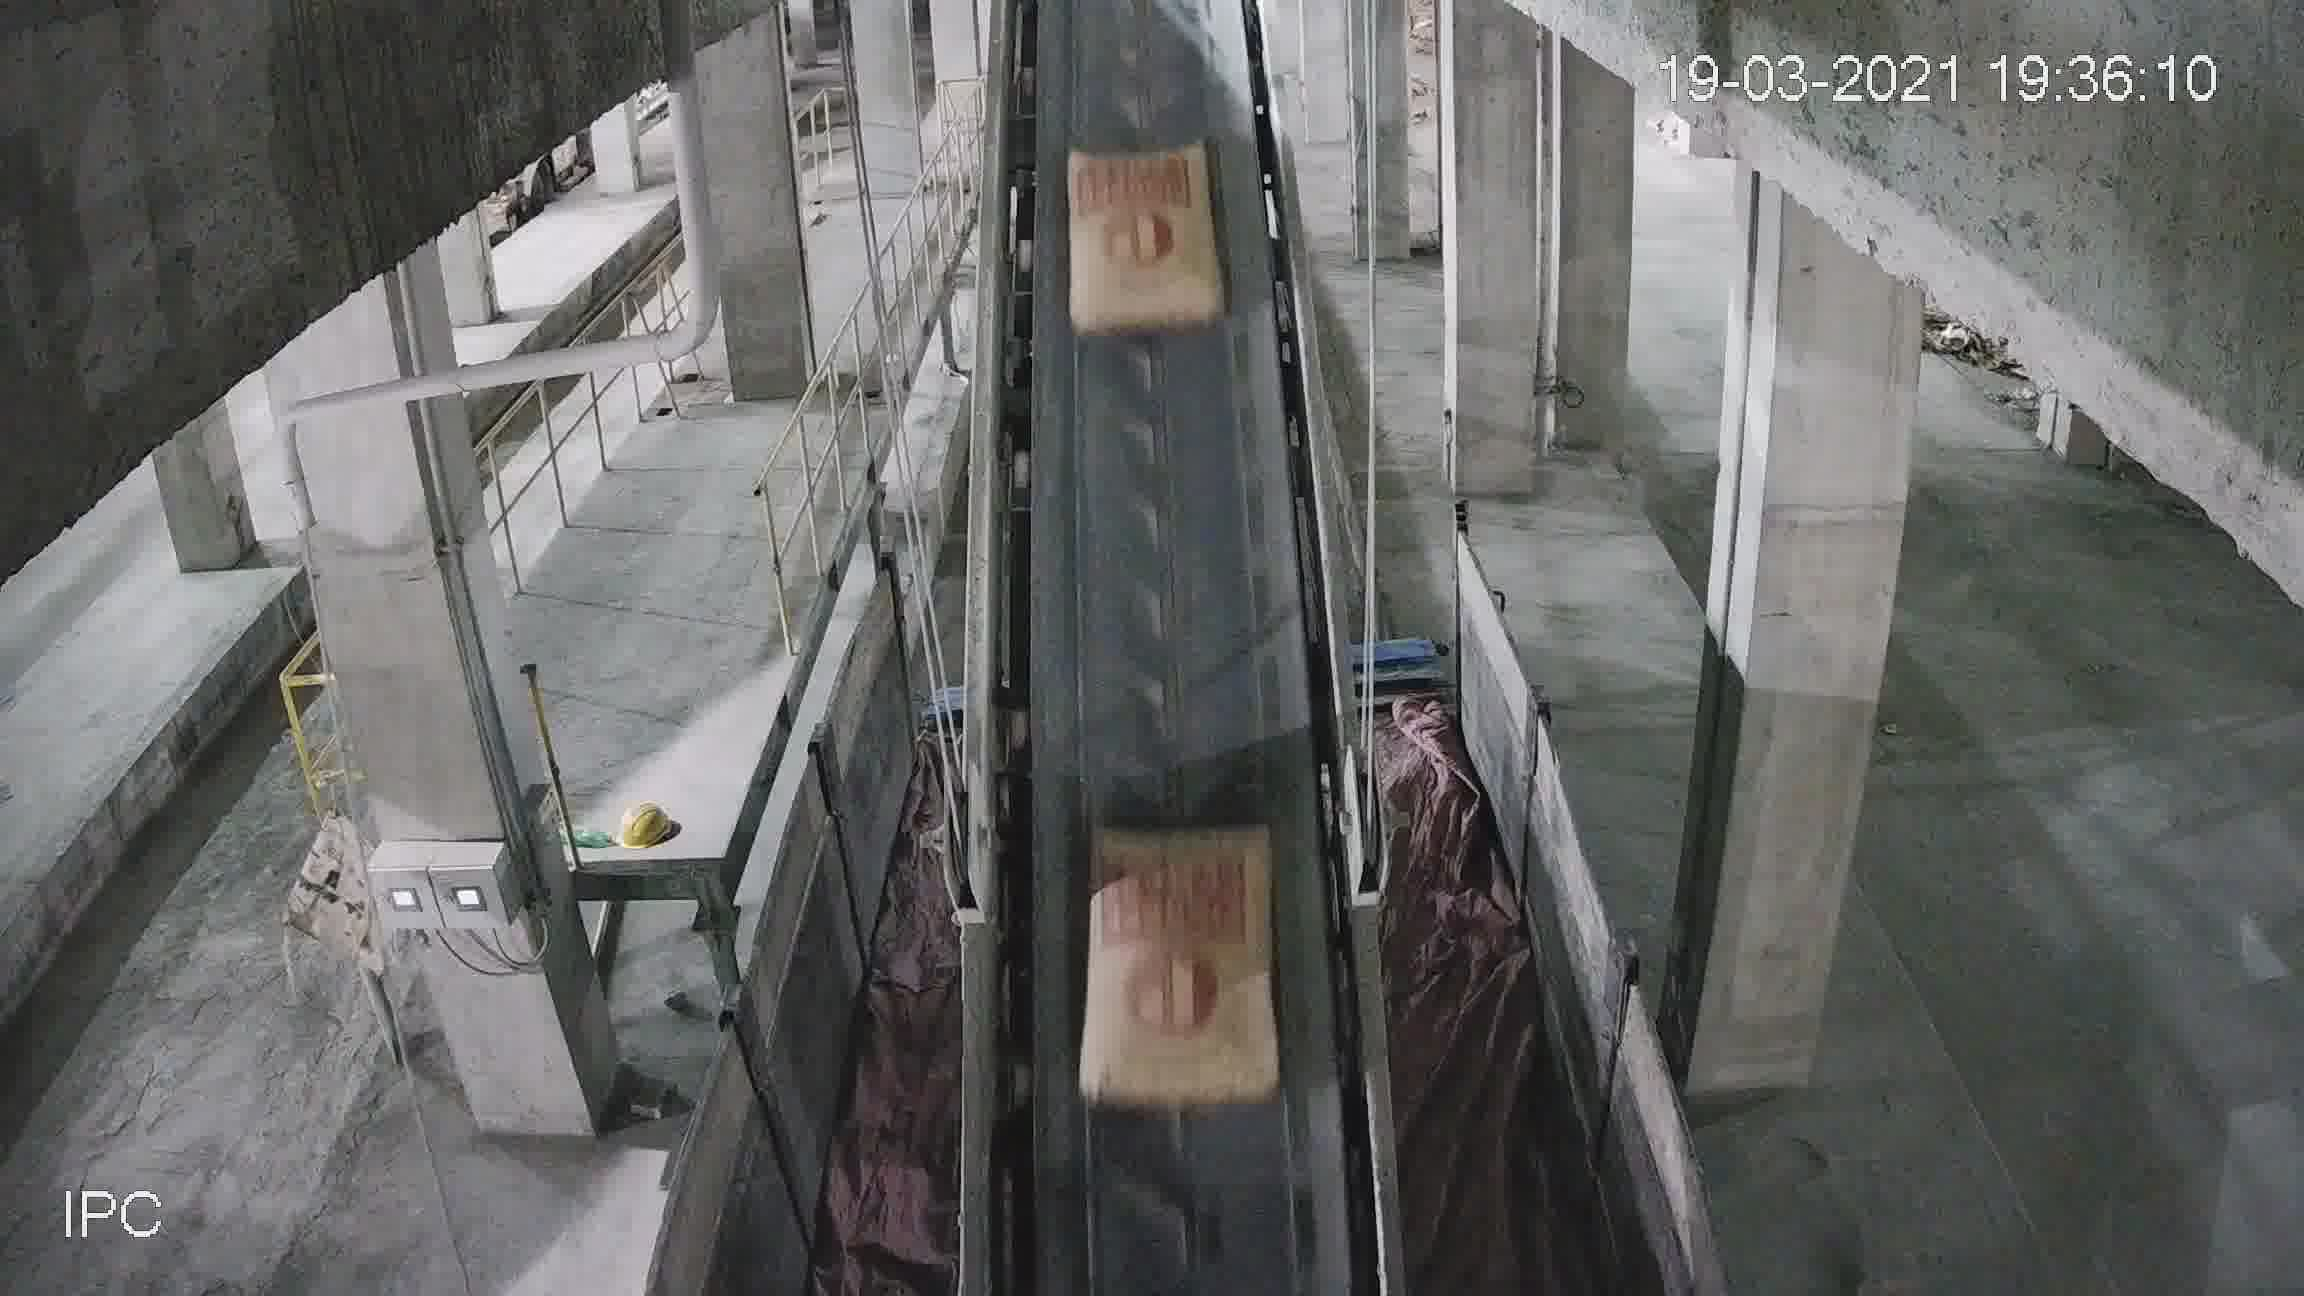bag: (1090, 831, 1282, 1109), (1071, 161, 1222, 335)
belt: (965, 46, 1386, 1296)
